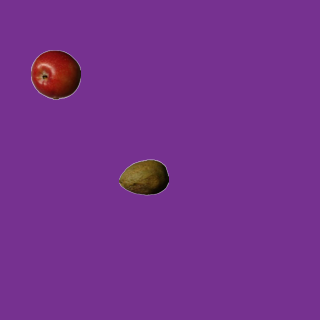Apple Braeburn: (30, 49, 80, 99)
Papaya: (118, 152, 168, 202)
